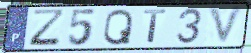3: (175, 7, 204, 46)
5: (67, 7, 99, 48)
Q: (102, 8, 135, 47)
T: (142, 8, 168, 45)
V: (207, 3, 246, 47)
Z: (27, 8, 67, 48)
